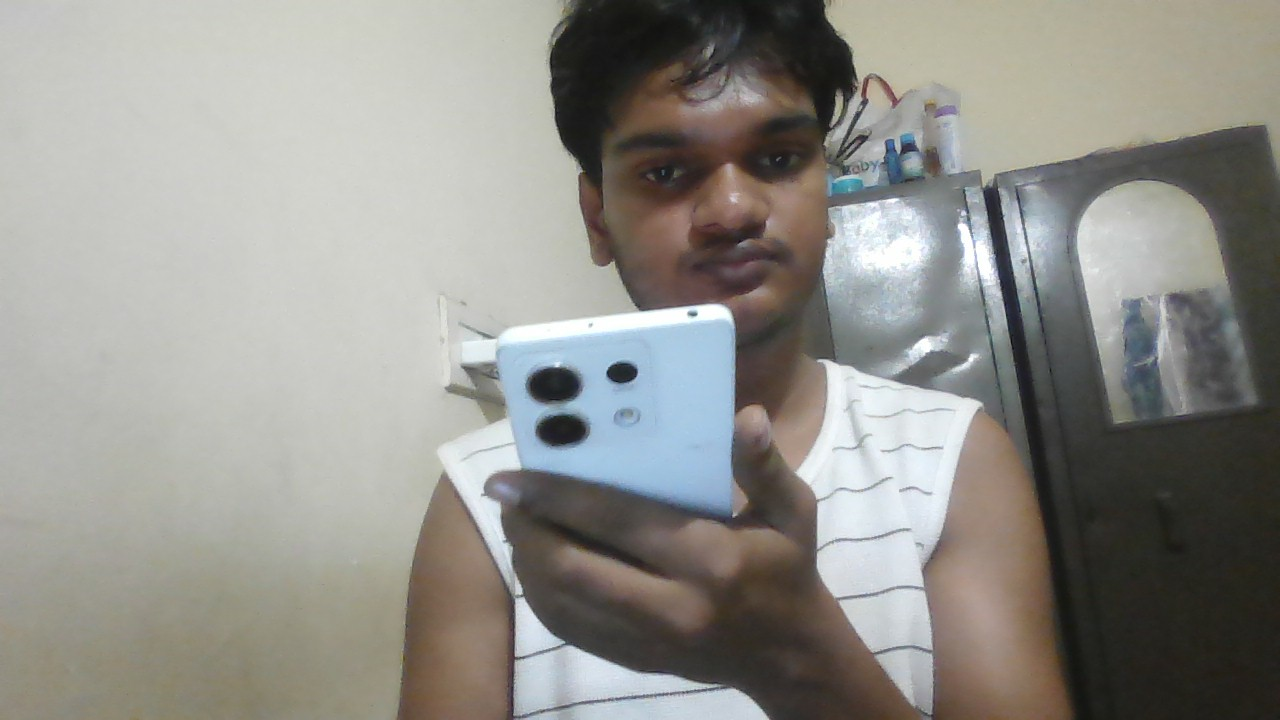phone: (501, 303, 739, 482)
